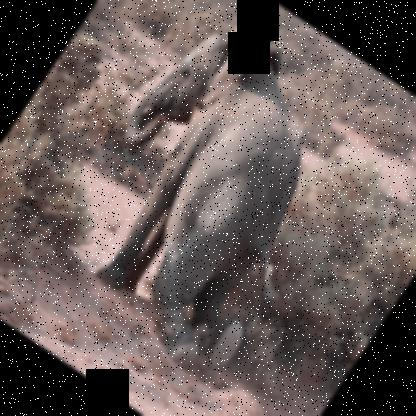Elephas-maximus: (27, 0, 413, 393)
